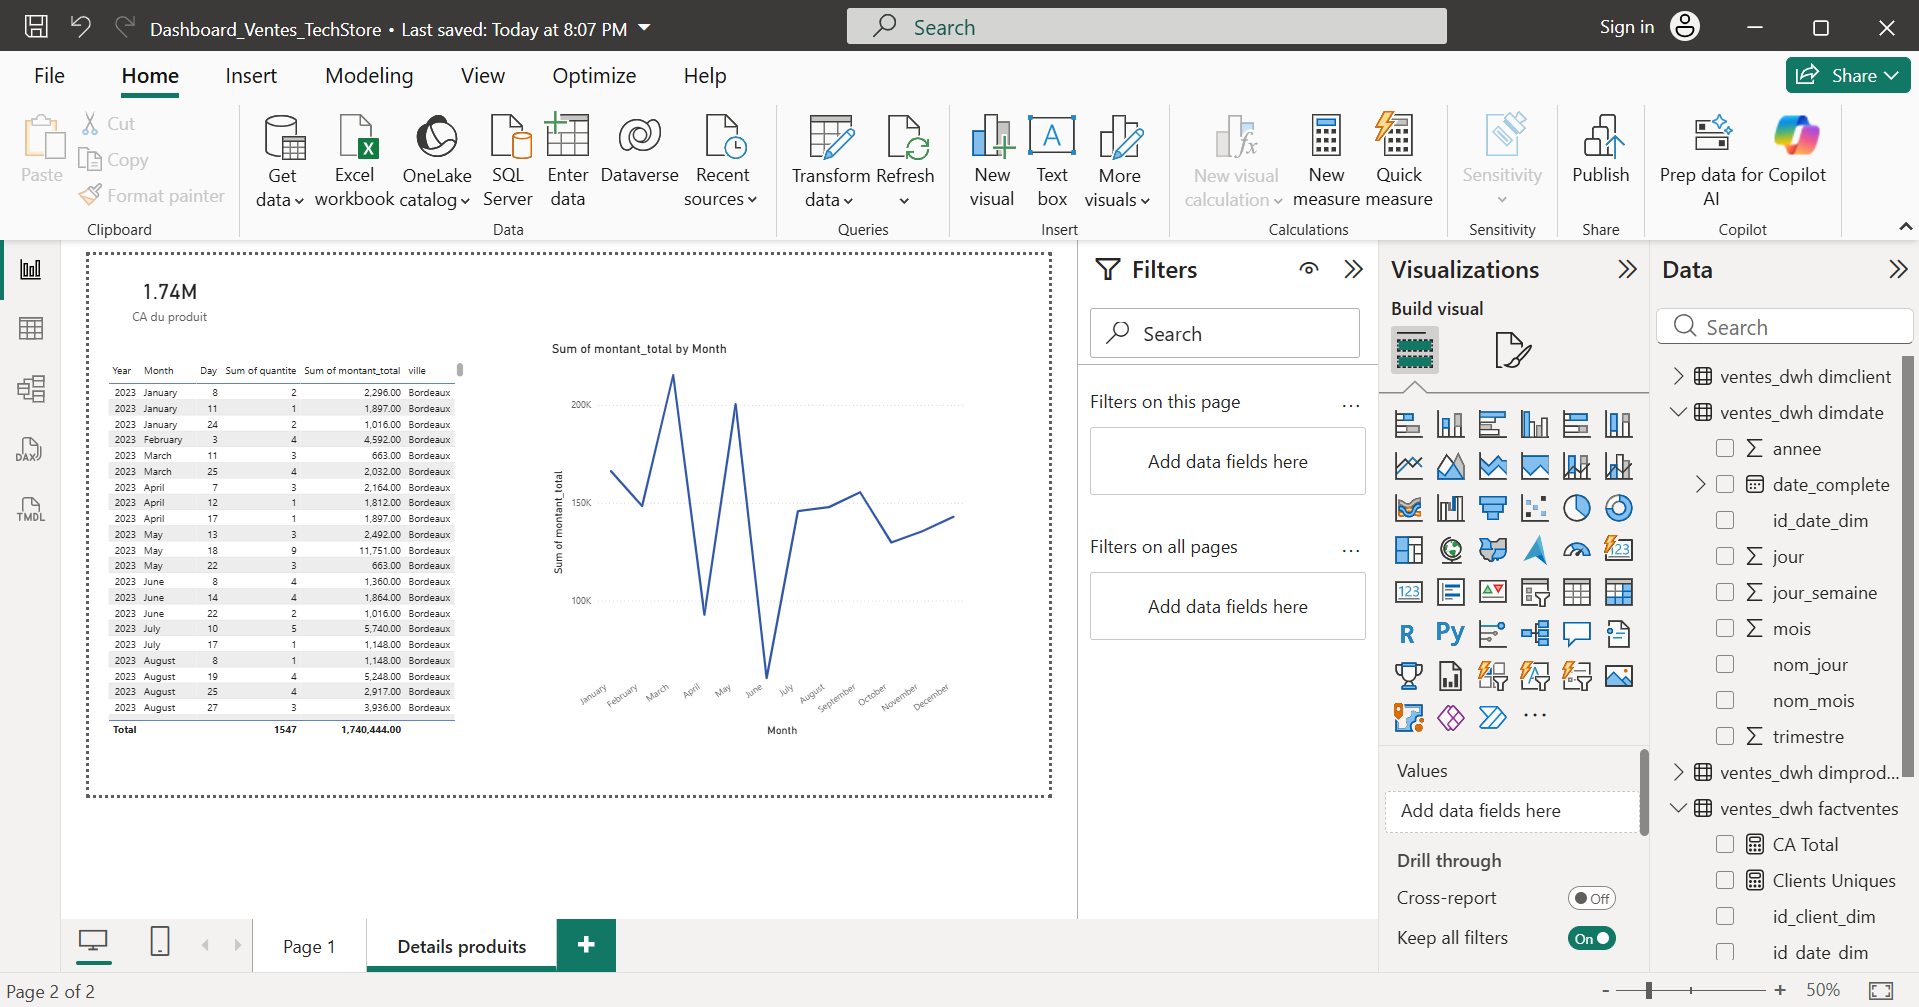

This screenshot's page, from the dashboard's own definition file:
{"tool":"powerbi","page":{"name":"Details produits","canvas":[1280,720],"ordinal":1},"visuals":[{"type":"actionButton","box":[0,0,100,40],"z":0},{"type":"card","fields":{"Values":["Sum(ventes_dwh factventes.montant_total)"]},"box":[0,0,214,114],"z":1000},{"type":"tableEx","fields":{"Values":["ventes_dwh dimdate.date_complete.Variation.Date Hierarchy.Year","ventes_dwh dimdate.date_complete.Variation.Date Hierarchy.Month","ventes_dwh dimdate.date_complete.Variation.Date Hierarchy.Day","Sum(ventes_dwh factventes.quantite)","Sum(ventes_dwh factventes.montant_total)","ventes_dwh dimclient.ville"]},"box":[20,138,484,508],"z":2000},{"type":"lineChart","fields":{"Category":["ventes_dwh dimdate.date_complete.Variation.Date Hierarchy.Month"],"Y":["Sum(ventes_dwh factventes.montant_total)"]},"box":[612,114,562,532],"z":3000}]}

Visuals, with their boxes on the page's 1280x720 design canvas (x1, y1, x2, y2). These are canvas units, not pixel positions in the 1919x1007 screenshot, which may show the page scaled, cropped or inside an application window:
actionButton: (0, 0, 100, 40)
card - Sum(ventes_dwh factventes.montant_total): (0, 0, 214, 114)
tableEx - ventes_dwh dimdate.date_complete.Variation.Date Hierarchy.Year x ventes_dwh dimdate.date_complete.Variation.Date Hierarchy.Month: (20, 138, 504, 646)
lineChart - ventes_dwh dimdate.date_complete.Variation.Date Hierarchy.Month x Sum(ventes_dwh factventes.montant_total): (612, 114, 1174, 646)
